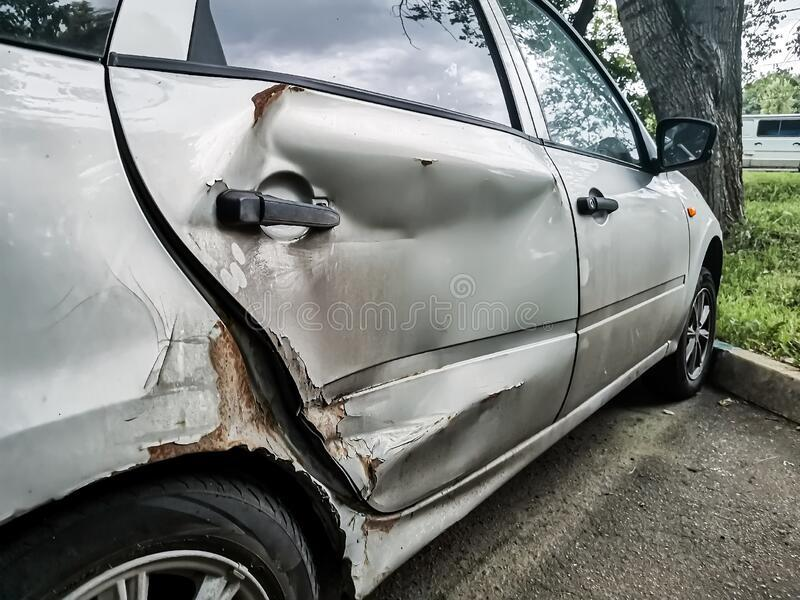RunningBoard-Dent: (332, 485, 539, 599)
doorouter-dent: (214, 73, 575, 447)
quaterpanel-dent: (0, 317, 240, 599)
